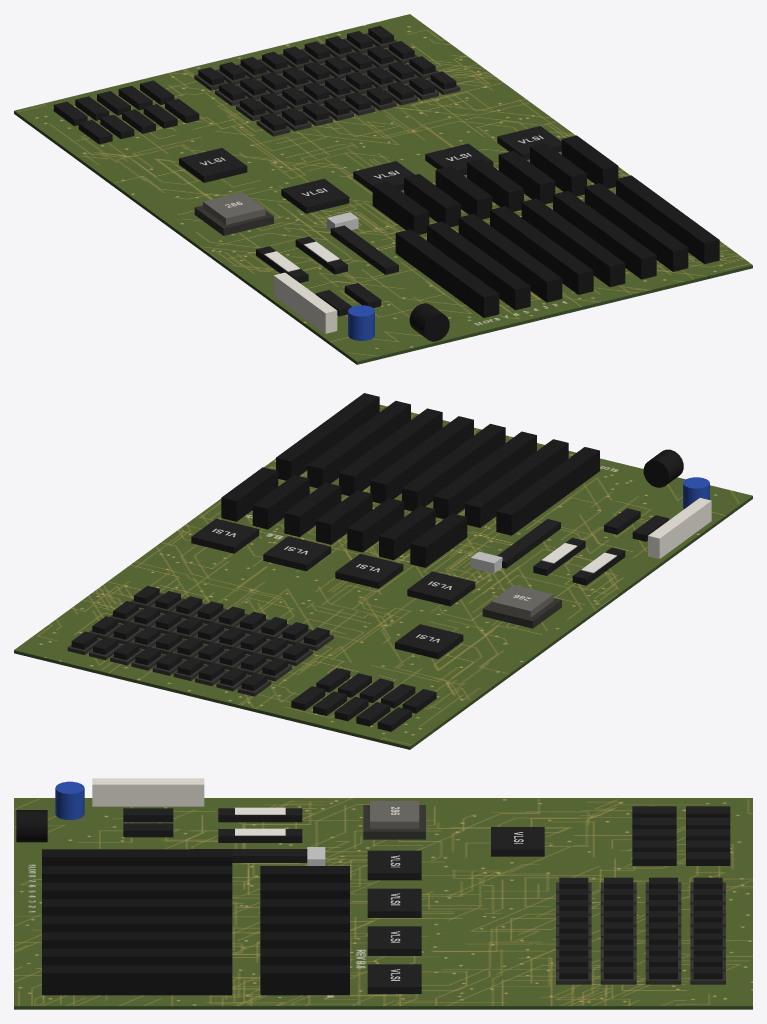
File: motherboard-286-vlsi.glb
3 renders of one model, top to bottom at view 1: azimuth 30°, elevation 25°; view 2: azimuth 150°, elevation 25°; view 3: azimuth 270°, elevation 25°, orthographic. The views are drawn at different scales.
Visible parts, largest first — view 1: Дорожки, Слоты ISA, Микросхемы, Панельки, Текстолит, Разъём питания, Корпус процессора, Батарейка, Наклейки; view 2: Дорожки, Слоты ISA, Микросхемы, Панельки, Текстолит, Разъём питания, Корпус процессора, Наклейки, Батарейка; view 3: Дорожки, Слоты ISA, Микросхемы, Панельки, Разъём питания, Текстолит, Корпус процессора, Батарейка, Наклейки.
Part boxes in pixels (box(x1,y1,x2,y2)): Дорожки: box(14, 14, 752, 361); Слоты ISA: box(372, 135, 719, 341); Микросхемы: box(53, 25, 561, 316); Панельки: box(194, 33, 460, 235); Текстолит: box(14, 111, 752, 364); Разъём питания: box(273, 272, 337, 333); Корпус процессора: box(203, 192, 265, 224); Батарейка: box(348, 305, 374, 340); Наклейки: box(264, 241, 339, 271); Дорожки: box(14, 405, 752, 746); Слоты ISA: box(221, 393, 683, 567); Микросхемы: box(71, 508, 669, 731); Панельки: box(67, 593, 561, 696); Текстолит: box(14, 496, 752, 749); Разъём питания: box(648, 498, 711, 558); Корпус процессора: box(491, 585, 553, 617); Наклейки: box(541, 543, 616, 573); Батарейка: box(683, 477, 709, 508); Дорожки: box(14, 798, 752, 1005); Слоты ISA: box(16, 810, 349, 995); Микросхемы: box(123, 806, 730, 993); Панельки: box(363, 805, 725, 984); Разъём питания: box(92, 778, 204, 806); Текстолит: box(14, 1006, 752, 1009); Корпус процессора: box(370, 801, 419, 828); Батарейка: box(55, 781, 84, 819); Наклейки: box(235, 807, 285, 835).
Bounding box in the file's own units: 0.22 × 0.016 × 0.33.
12 materials, 3 textured.
